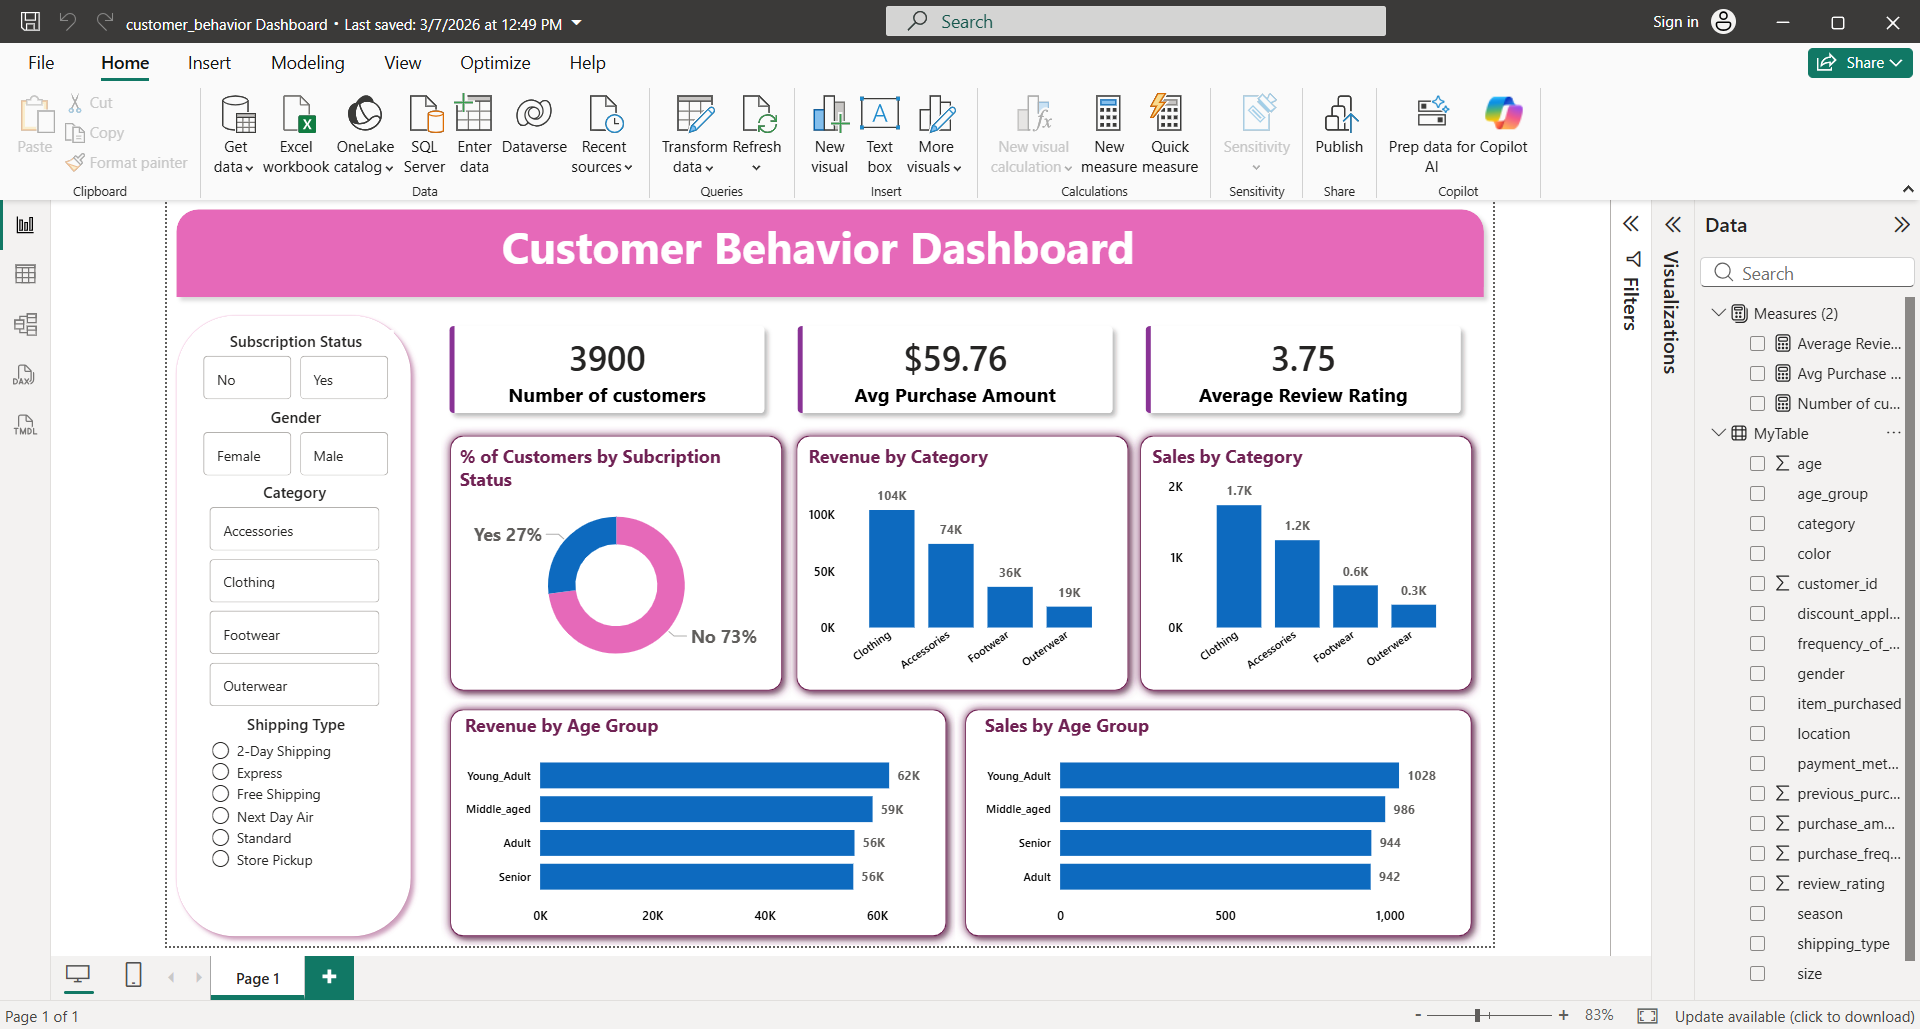

Layout of this report page (visuals, bound fields, positions):
{"tool":"powerbi","page":{"name":"Page 1","canvas":[1280,720],"ordinal":0},"visuals":[{"type":"cardVisual","fields":{"Data":["Measures (2).Number of customers","Measures (2).Avg Purchase Amount","Measures (2).Average Review Rating"]},"box":[244.3,92.9,1035.7,142.9],"z":0},{"type":"shape","box":[0,0,1280,102.9],"z":1000},{"type":"textbox","box":[264.3,11.4,728.6,70],"z":2000},{"type":"shape","box":[264.3,218.6,338.6,264.3],"z":3000},{"type":"donutChart","title":"% of Customers by Subcription Status","fields":{"Y":["CountNonNull(MyTable.customer_id)"],"Category":["MyTable.subscription_status"]},"box":[277.1,235.7,312.9,228.6],"z":4000},{"type":"shape","box":[598.6,218.6,338.6,264.3],"z":5000},{"type":"shape","box":[930,218.6,338.6,264.3],"z":6000},{"type":"columnChart","title":"Revenue by Category","fields":{"Y":["Sum(MyTable.purchase_amount)"],"Category":["MyTable.category"]},"box":[614.3,235.7,308.6,228.6],"z":7000},{"type":"columnChart","title":"Sales by Category","fields":{"Category":["MyTable.category"],"Y":["CountNonNull(MyTable.customer_id)"]},"box":[945.7,235.7,308.6,228.6],"z":8000},{"type":"shape","box":[0,102.9,244.3,617.1],"z":9000},{"type":"advancedSlicerVisual","title":"Subscription Status","fields":{"Values":["MyTable.subscription_status"]},"box":[30,125.7,188.6,72.9],"z":10000},{"type":"advancedSlicerVisual","title":"Category","fields":{"Values":["MyTable.category"]},"box":[35.7,271.4,174.3,224.3],"z":11000},{"type":"listSlicer","title":"Shipping Type","fields":{"Values":["MyTable.shipping_type"]},"box":[37.1,495.7,174.3,197.1],"z":12000},{"type":"advancedSlicerVisual","title":"Gender","fields":{"Values":["MyTable.gender"]},"box":[30,198.6,188.6,72.9],"z":13000},{"type":"shape","box":[264.3,482.9,497.1,237.1],"z":14000},{"type":"shape","box":[761.4,482.9,507.1,237.1],"z":15000},{"type":"barChart","title":"Revenue by Age Group","fields":{"Y":["Sum(MyTable.purchase_amount)"],"Category":["MyTable.age_group"]},"box":[282.9,494.3,461.4,214.3],"z":15001},{"type":"barChart","title":"Sales by Age Group","fields":{"Category":["MyTable.age_group"],"Y":["CountNonNull(MyTable.customer_id)"]},"box":[784.3,494.3,461.4,214.3],"z":15002}]}

Visuals, with their boxes on the page's 1280x720 design canvas (x1, y1, x2, y2). These are canvas units, not pixel positions in the 1920x1029 screenshot, which may show the page scaled, cropped or inside an application window:
cardVisual - Measures (2).Number of customers x Measures (2).Avg Purchase Amount: region(244, 93, 1280, 236)
shape: region(0, 0, 1280, 103)
textbox: region(264, 11, 993, 81)
shape: region(264, 219, 603, 483)
"% of Customers by Subcription Status" donutChart: region(277, 236, 590, 464)
shape: region(599, 219, 937, 483)
shape: region(930, 219, 1269, 483)
"Revenue by Category" columnChart: region(614, 236, 923, 464)
"Sales by Category" columnChart: region(946, 236, 1254, 464)
shape: region(0, 103, 244, 720)
"Subscription Status" advancedSlicerVisual: region(30, 126, 219, 199)
"Category" advancedSlicerVisual: region(36, 271, 210, 496)
"Shipping Type" listSlicer: region(37, 496, 211, 693)
"Gender" advancedSlicerVisual: region(30, 199, 219, 272)
shape: region(264, 483, 761, 720)
shape: region(761, 483, 1268, 720)
"Revenue by Age Group" barChart: region(283, 494, 744, 709)
"Sales by Age Group" barChart: region(784, 494, 1246, 709)
